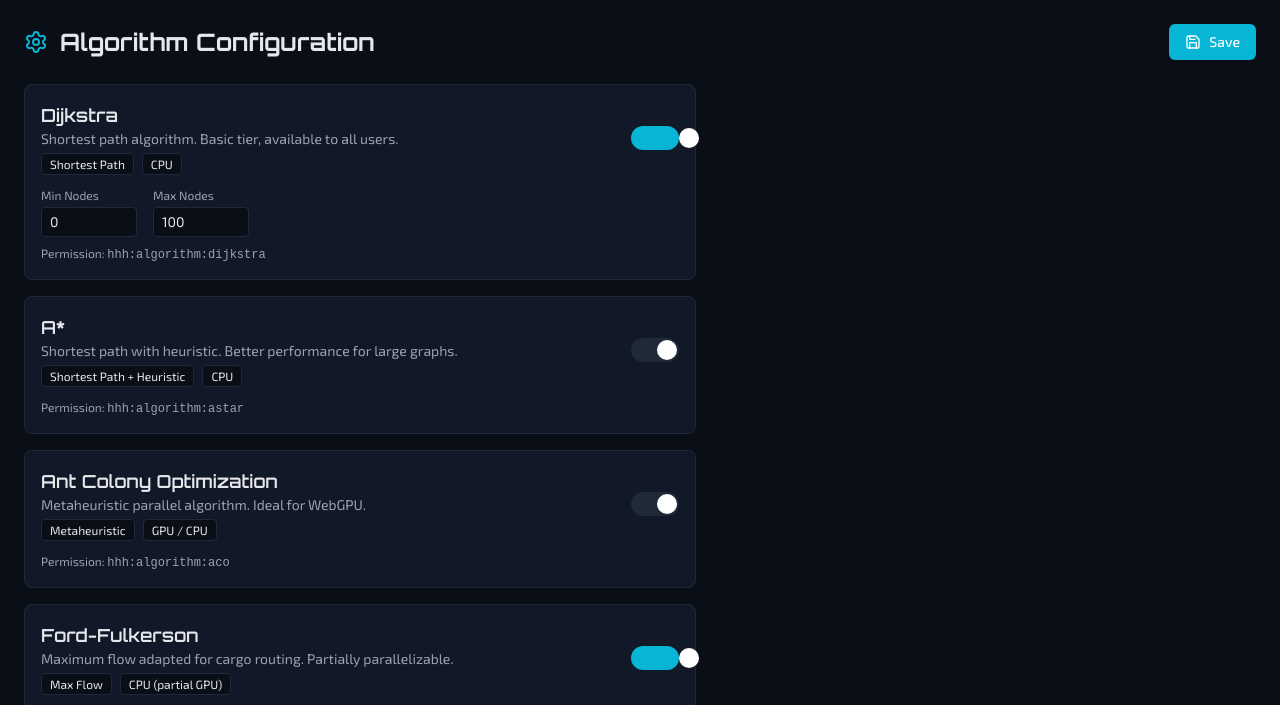
Scenario: AlgorithmConfigPage › toggles an algorithm on click
The image size is (1280, 705).
expect the heading "Dijkstra" is shown: met, box [41,104,118,126]
Note: astar is disabled, click its toggle to enable
Click the switch named "Enable A*": (655, 350) [631,338,679,362]
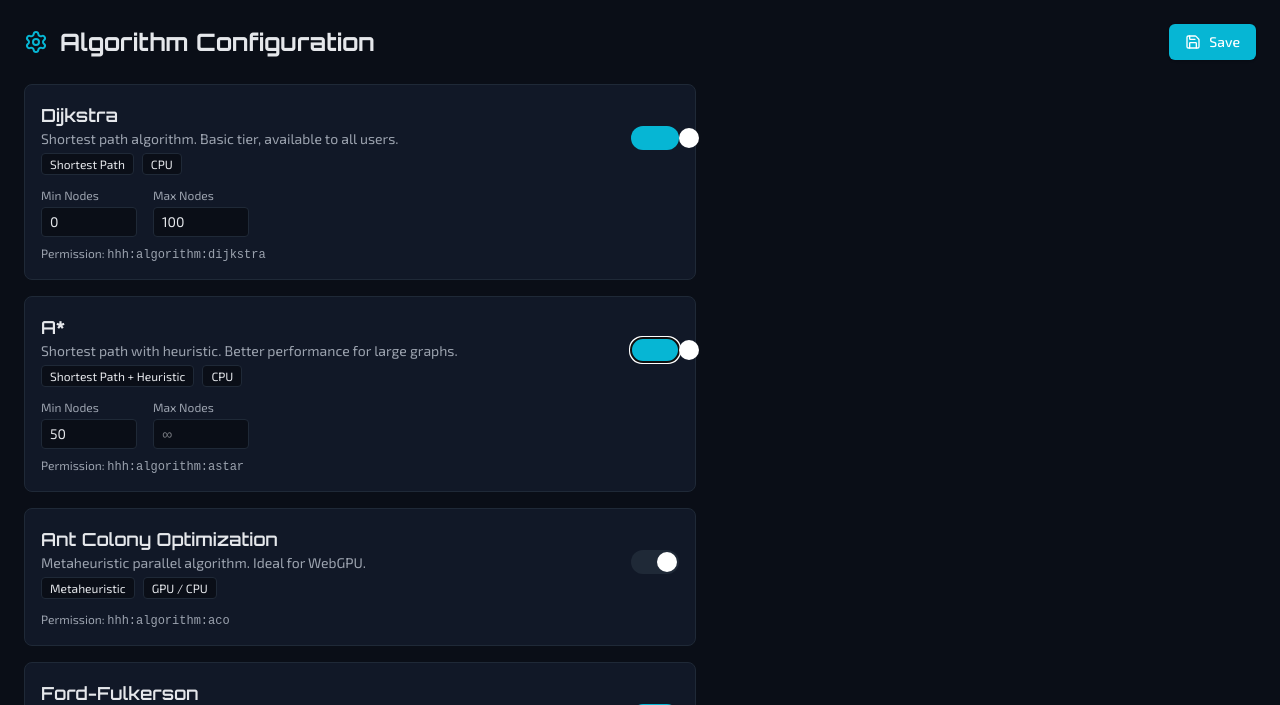
expect the number field labelled "Min Nodes" below "Shortest Path + Heuristic" is shown: met, box [41,419,137,449]
